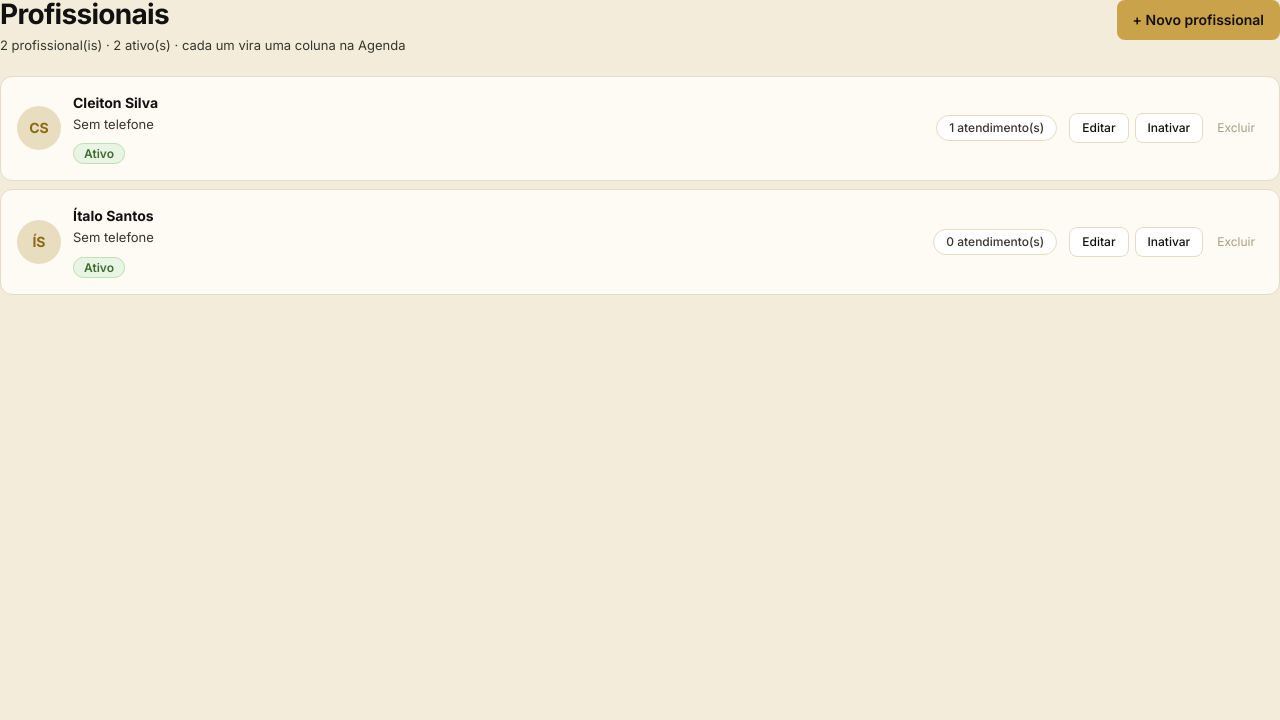
Test case: Exclusão bloqueada por uso (auditoria F2/F3) › Profissionais: bloqueia exclusão com agendamentos, caixa e comissões
The image size is (1280, 720).
Click the button with aria-label "Excluir Cleiton Silva" at (1236, 128), box [1209,113,1263,143]
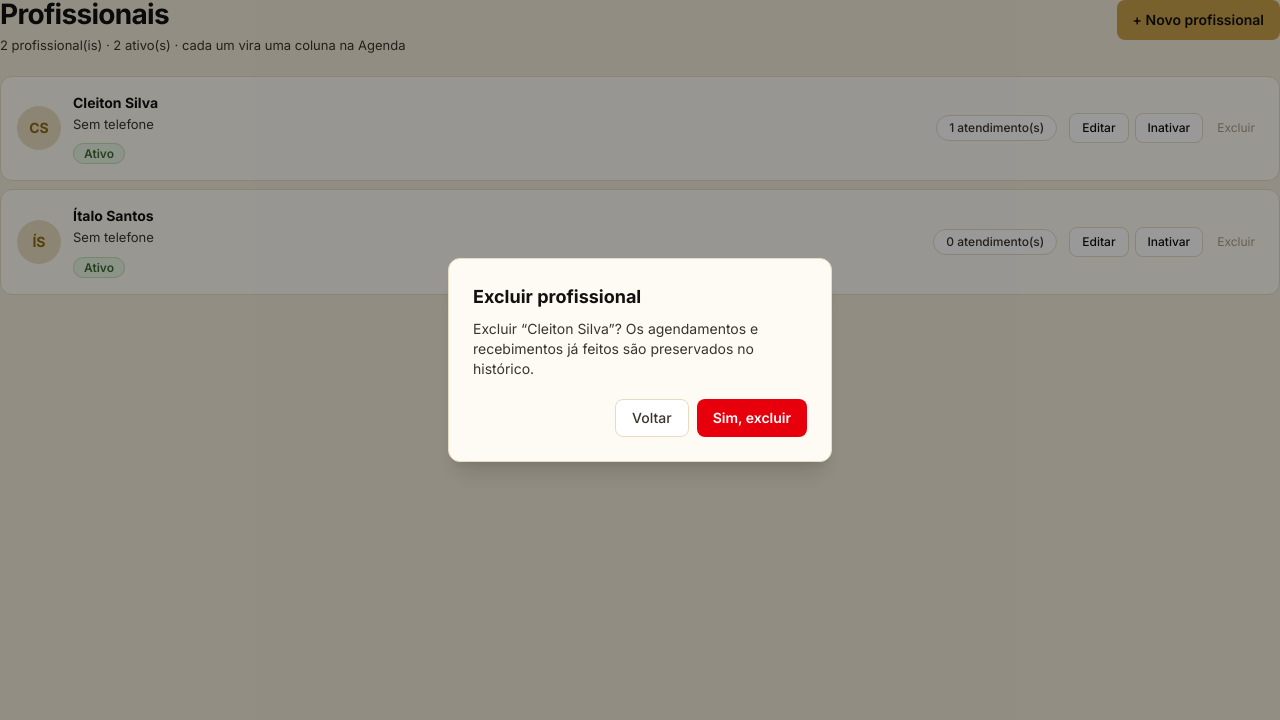
Now the heading "Excluir profissional" is shown, box [473,286,641,307]
Click the button "Sim, excluir" at (752, 418), box [697,399,807,437]
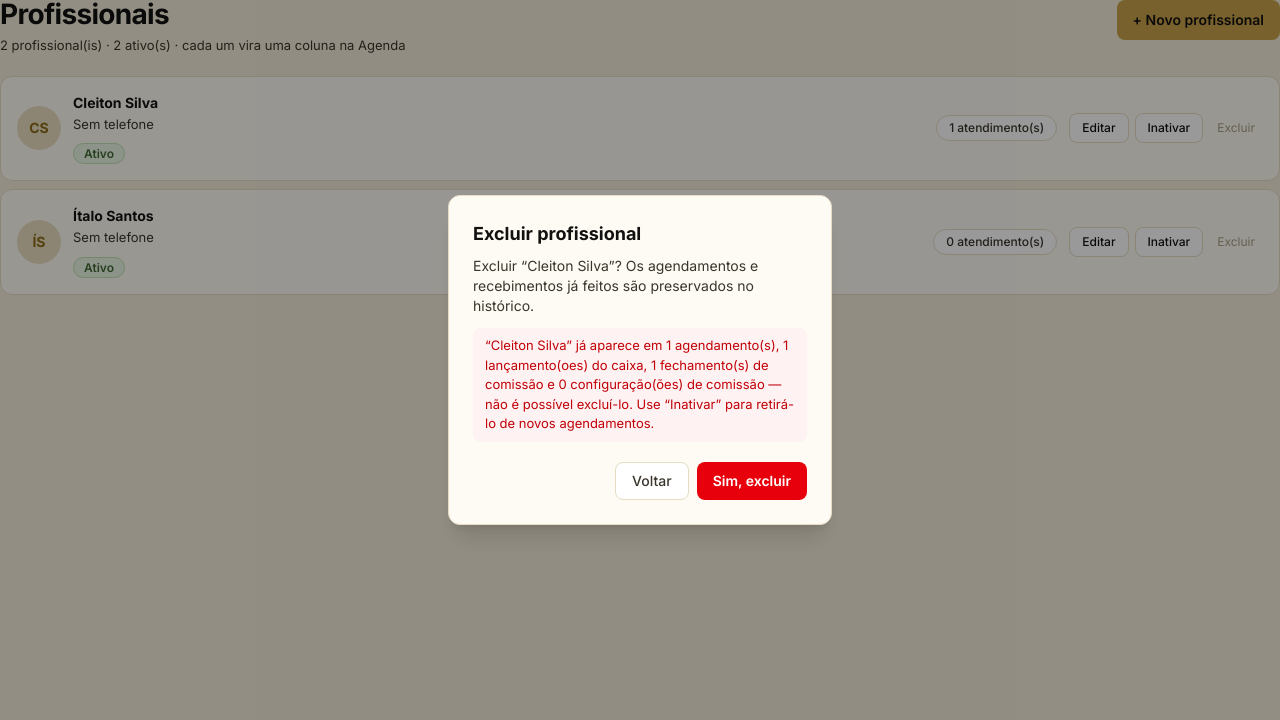
Now the text "já aparece em" shows "“Cleiton Silva” já aparece em 1 agendamento(s)", box [485,337,794,431]
Now the text "já aparece em" shows "1 lançamento(oes) do caixa", box [485,337,794,431]
Now the text "já aparece em" shows "1 fechamento(s) de comissão", box [485,337,794,431]
